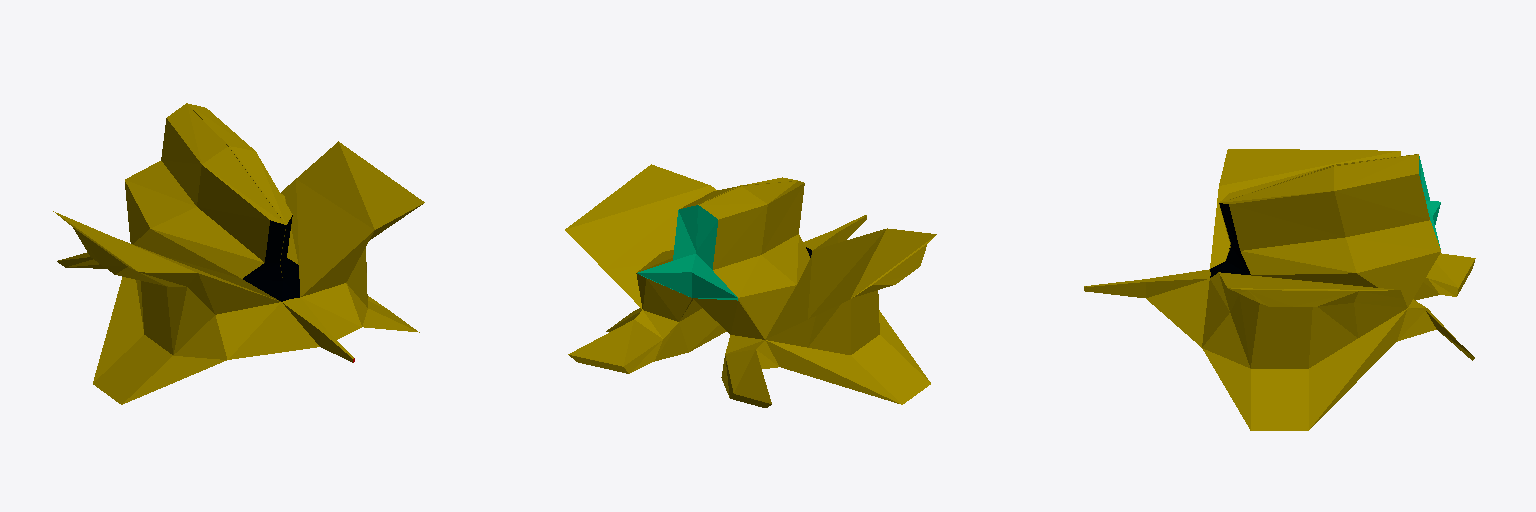
File: enemy.obj
The picture shows the model from 3 angles: view 1: azimuth 30°, elevation 25°; view 2: azimuth 150°, elevation 25°; view 3: azimuth 270°, elevation 25°; orthographic projection.
Visible parts, largest first — view 1: Cube; view 2: Cube; view 3: Cube.
Part boxes in pixels (bbox=[...]): Cube: bbox=[53, 103, 424, 404]; Cube: bbox=[565, 164, 936, 407]; Cube: bbox=[1084, 149, 1475, 430].
Bounding box in the file's own units: 3.01 × 1.97 × 3.43.